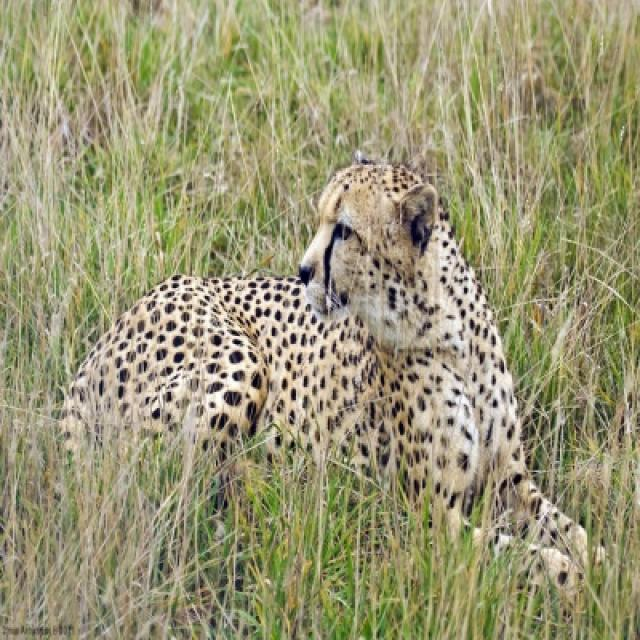Cheetah: (51, 159, 615, 598)
